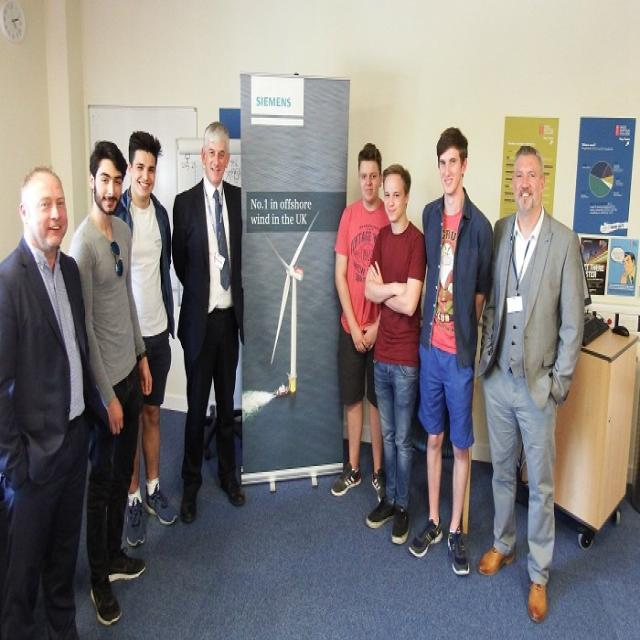body: (475, 140, 586, 624), (0, 160, 92, 638), (64, 136, 153, 626), (405, 124, 494, 578), (172, 121, 248, 526), (112, 128, 176, 550), (361, 160, 429, 546), (330, 140, 390, 506)
